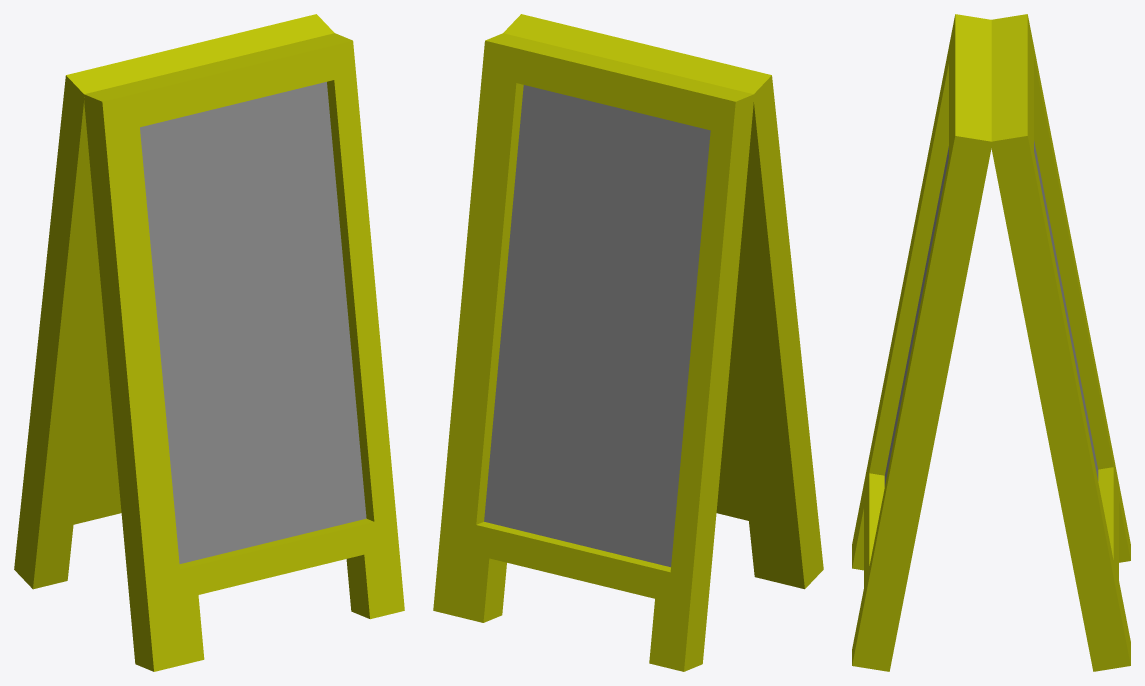
Rendered from DontSlipSign.FBX.
3 renders of one model, left to right at view 1: azimuth 30°, elevation 25°; view 2: azimuth 150°, elevation 25°; view 3: azimuth 270°, elevation 25°, orthographic.
Visible parts, largest first — view 1: Image002, DontSlipSign001, DontSlipSign; view 2: Image1, DontSlipSign, DontSlipSign001; view 3: DontSlipSign001, DontSlipSign, Image002, Image1.
Part boxes in pixels (x1,y1,x2,y2): Image002: [140, 82, 366, 563]; DontSlipSign001: [84, 33, 404, 671]; DontSlipSign: [14, 14, 334, 589]; Image1: [484, 85, 710, 567]; DontSlipSign: [433, 33, 754, 671]; DontSlipSign001: [503, 14, 823, 589]; DontSlipSign001: [852, 14, 992, 671]; DontSlipSign: [991, 14, 1130, 671]; Image002: [884, 146, 948, 486]; Image1: [1034, 140, 1098, 480].
Bounding box in the file's own units: 13.92 × 28.55 × 13.45.
